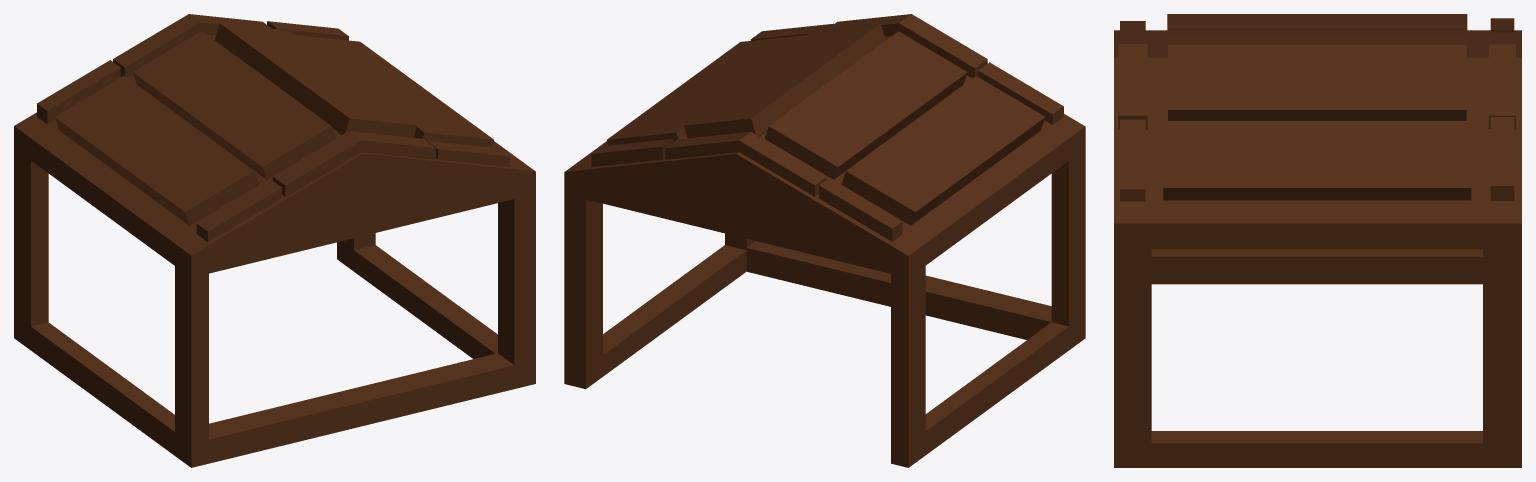
Rendered from kahoy1f.fbx.
3 renders of one model, left to right at view 1: azimuth 30°, elevation 25°; view 2: azimuth 150°, elevation 25°; view 3: azimuth 270°, elevation 25°, orthographic. The views are drawn at different scales.
Visible parts, largest first — view 1: Cube; view 2: Cube; view 3: Cube.
Boxes of the visible parts, box(x1,y1,x2,y2) form: Cube: box(14, 14, 535, 467); Cube: box(564, 14, 1085, 467); Cube: box(1114, 14, 1521, 467).
Bounding box in the file's own units: 1066 × 851 × 950.
